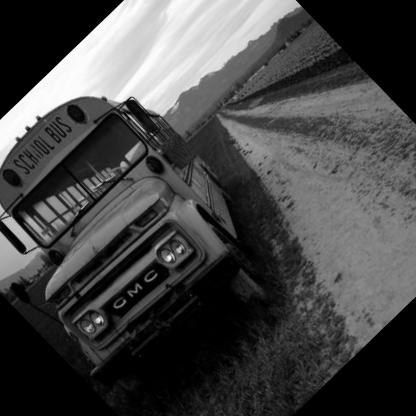bus: (1, 38, 328, 416)
